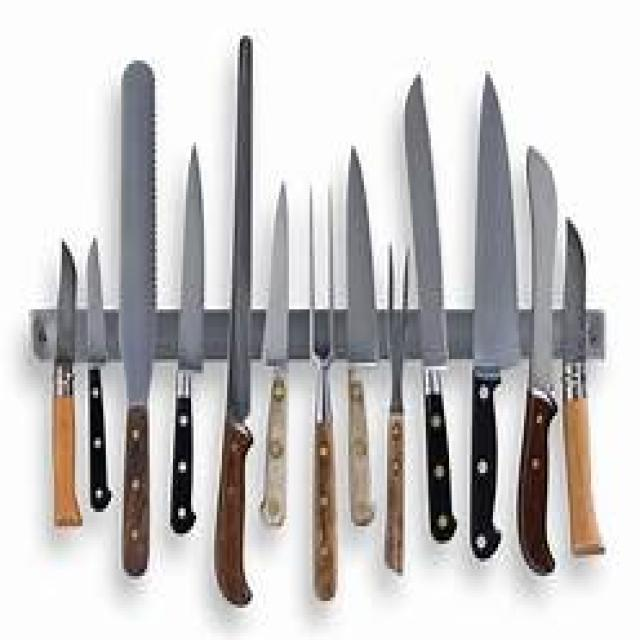Knife: (472, 75, 519, 555), (408, 78, 449, 537), (214, 36, 245, 601), (121, 60, 152, 572), (519, 149, 555, 572), (170, 146, 201, 530), (348, 149, 377, 519), (261, 185, 284, 523), (54, 242, 77, 523), (88, 238, 106, 505)
